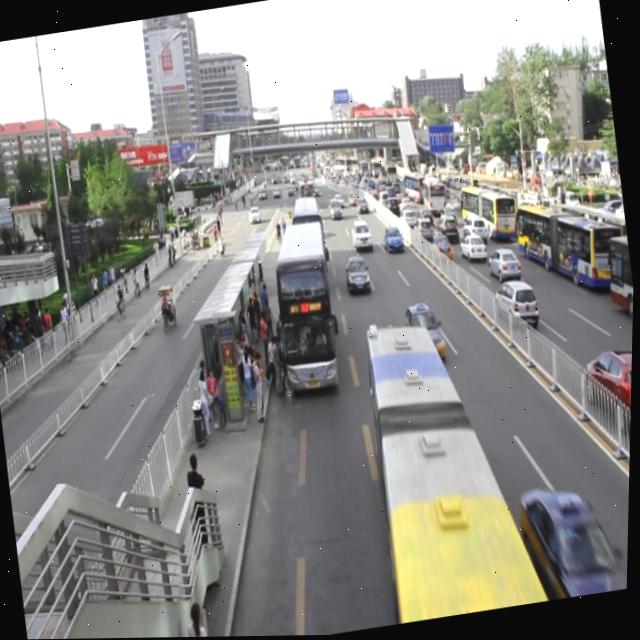car: (516, 478, 632, 606), (343, 254, 372, 298), (350, 218, 373, 252), (381, 225, 405, 255), (328, 198, 343, 221), (355, 196, 370, 214), (347, 192, 360, 207)
van: (356, 307, 555, 626), (266, 216, 345, 398), (286, 194, 330, 280)
